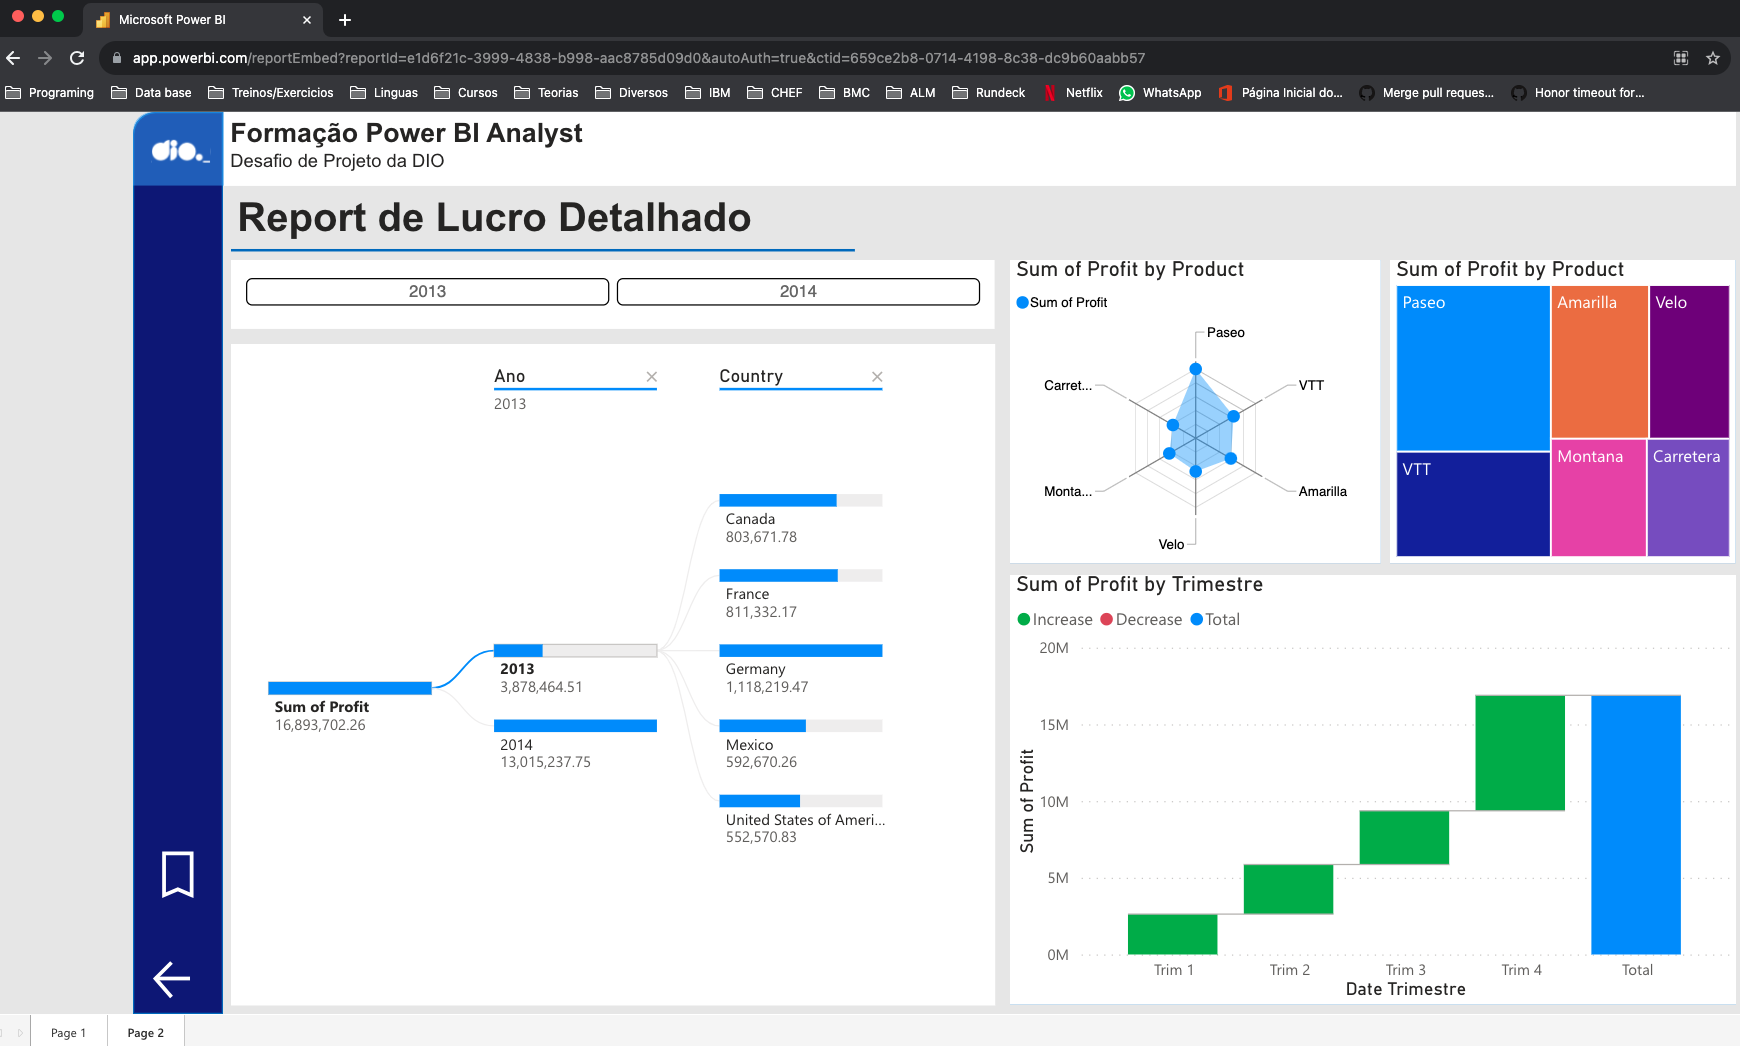

The dashboard page shown, as its layout file describes it:
{"tool":"powerbi","page":{"name":"Page 2","canvas":[1280,720],"ordinal":1},"visuals":[{"type":"textbox","box":[78.3,60.8,458.5,48.8],"z":0},{"type":"shape","box":[0,0,71.8,720],"z":2},{"type":"shape","box":[78.3,103.1,498.1,14.7],"z":4},{"type":"actionButton","title":"logo_dio","box":[-0.3,0.1,72.7,58.9],"z":7},{"type":"textbox","box":[72.7,0,1207.1,58.9],"z":9},{"type":"actionButton","box":[12.2,672.9,47.8,39.5],"z":17},{"type":"shape","box":[78.3,117.9,609.5,55.2],"z":18},{"type":"ChicletSlicer1448559807354","fields":{"Category":["financials.Date.Variation.Hierarquia de datas.Ano"]},"box":[81.9,124.3,602.1,43.3],"z":19},{"type":"shape","box":[78.3,185.1,609.5,527.6],"z":20},{"type":"decompositionTreeVisual","fields":{"Analyze":["Sum(financials.Profit)"],"ExplainBy":["financials.Date.Variation.Hierarquia de datas.Ano","financials.Country"]},"box":[78.3,185.1,609.5,527.6],"z":21},{"type":"shape","box":[699.7,117.9,296.5,242.1],"z":22},{"type":"shape","box":[1003.6,117.9,276.2,242.1],"z":23},{"type":"RadarChart1446119667547","fields":{"Category":["financials.Product"],"Y":["Sum(financials.Profit)"]},"box":[699.7,117.9,296.5,242.1],"z":24},{"type":"treemap","fields":{"Group":["financials.Product"],"Values":["Sum(financials.Profit)"]},"box":[1003.6,117.9,276.2,242.1],"z":25},{"type":"shape","box":[699.7,369.2,580.1,343.4],"z":26},{"type":"waterfallChart","fields":{"Category":["financials.Date.Variation.Hierarquia de datas.Trimestre"],"Y":["Sum(financials.Profit)"]},"box":[699.7,369.2,580.1,343.4],"z":27},{"type":"actionButton","box":[12,574.5,47.9,68.1],"z":29}]}

Visuals, with their boxes on the page's 1280x720 design canvas (x1, y1, x2, y2). These are canvas units, not pixel positions in the 1740x1046 screenshot, which may show the page scaled, cropped or inside an application window:
textbox: (78, 61, 537, 110)
shape: (0, 0, 72, 720)
shape: (78, 103, 576, 118)
"logo_dio" actionButton: (0, 0, 72, 59)
textbox: (73, 0, 1280, 59)
actionButton: (12, 673, 60, 712)
shape: (78, 118, 688, 173)
ChicletSlicer1448559807354 - financials.Date.Variation.Hierarquia de datas.Ano: (82, 124, 684, 168)
shape: (78, 185, 688, 713)
decompositionTreeVisual - Sum(financials.Profit) x financials.Date.Variation.Hierarquia de datas.Ano: (78, 185, 688, 713)
shape: (700, 118, 996, 360)
shape: (1004, 118, 1280, 360)
RadarChart1446119667547 - financials.Product x Sum(financials.Profit): (700, 118, 996, 360)
treemap - financials.Product x Sum(financials.Profit): (1004, 118, 1280, 360)
shape: (700, 369, 1280, 713)
waterfallChart - financials.Date.Variation.Hierarquia de datas.Trimestre x Sum(financials.Profit): (700, 369, 1280, 713)
actionButton: (12, 574, 60, 643)
